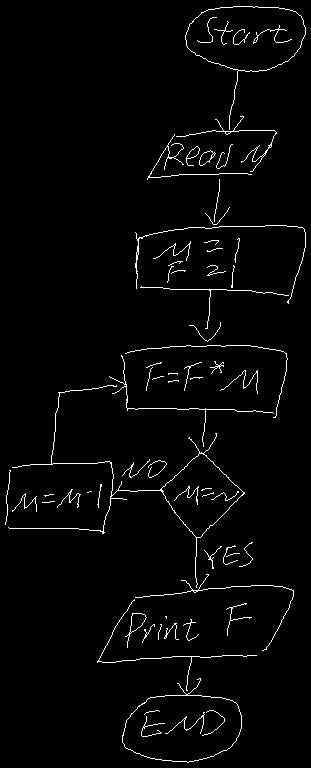arrow: (51, 376, 126, 464), (215, 71, 243, 134), (189, 290, 220, 341), (181, 537, 208, 592), (188, 408, 216, 453), (205, 179, 229, 224), (110, 481, 163, 499), (177, 656, 200, 694)
data: (97, 585, 293, 662), (147, 130, 276, 179)
decision: (160, 452, 244, 537)
process: (135, 225, 305, 303), (121, 345, 287, 417), (5, 461, 113, 533)
terminator: (122, 695, 241, 762), (185, 6, 305, 71)
text: (125, 603, 251, 647), (153, 238, 239, 287), (146, 361, 257, 393), (164, 143, 271, 169), (197, 17, 291, 44), (12, 484, 101, 511), (141, 710, 224, 736), (204, 542, 252, 568), (174, 486, 238, 504), (122, 459, 166, 477)
